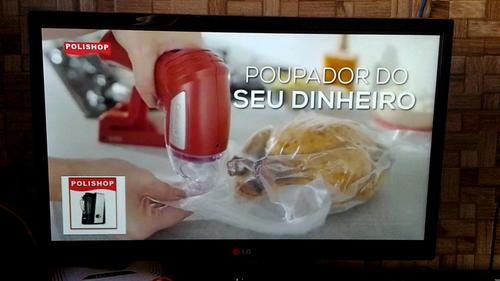Polishop #1: (60, 173, 126, 235)
